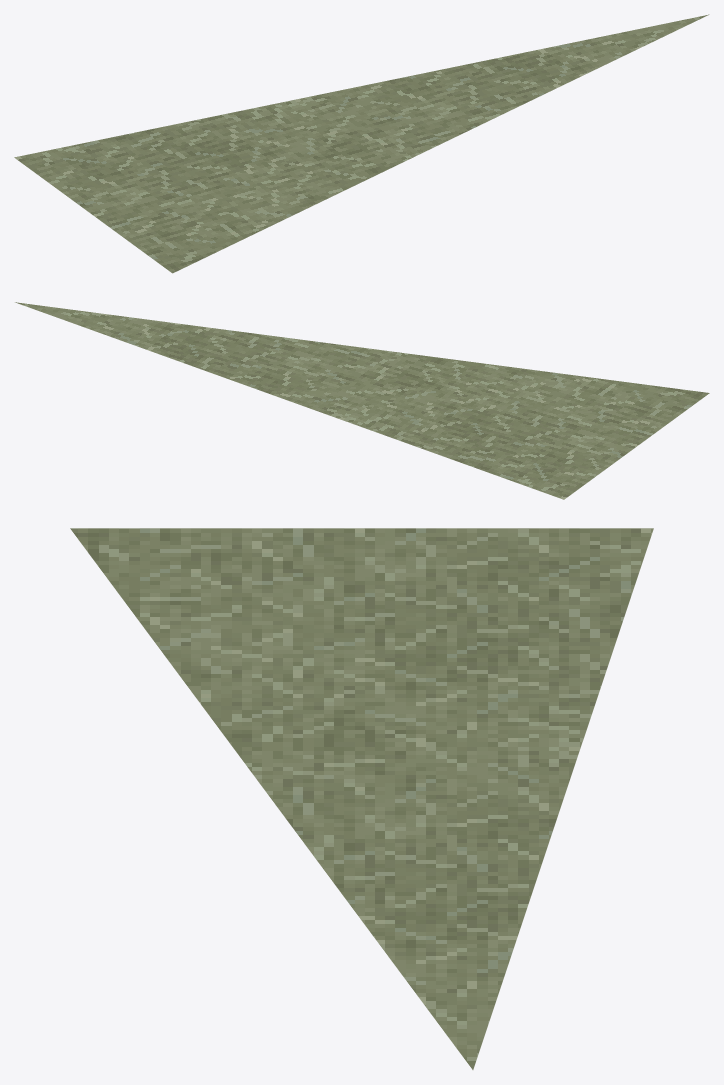
File: kd_stage_135ded_4_107_exterior.glb
The picture shows the model from 3 angles, top to bottom: view 1: azimuth 30°, elevation 25°; view 2: azimuth 150°, elevation 25°; view 3: azimuth 270°, elevation 25°; orthographic projection. The views are drawn at different scales.
Parts seen in each view (by area): view 1: kd_stage_135ded_4_107_exterior; view 2: kd_stage_135ded_4_107_exterior; view 3: kd_stage_135ded_4_107_exterior.
Part boxes in pixels (x1,y1,x2,y2): kd_stage_135ded_4_107_exterior: (14, 14, 709, 273); kd_stage_135ded_4_107_exterior: (15, 302, 709, 499); kd_stage_135ded_4_107_exterior: (70, 528, 653, 1069).
Bounding box in the file's own units: 0.7065 × 0.022 × 0.3.
1 material, 1 textured.
